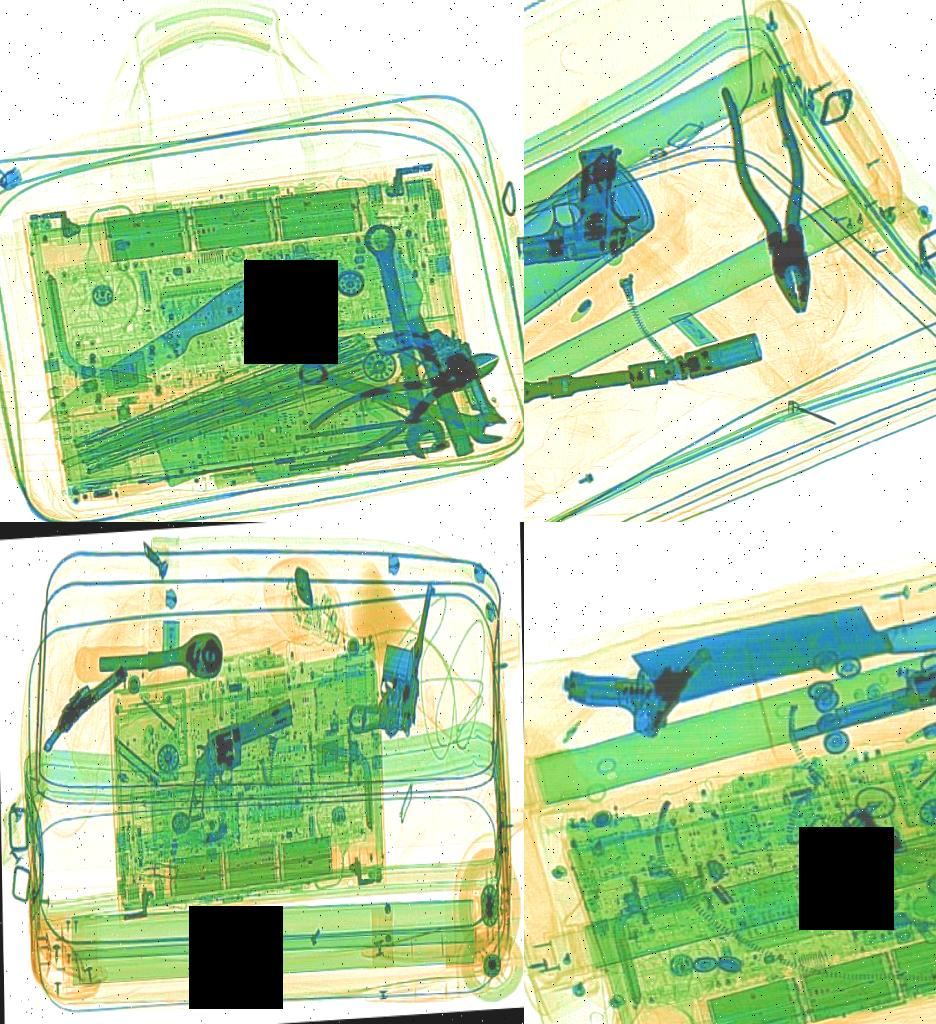Gun: (554, 584, 726, 758), (152, 689, 328, 826), (772, 605, 936, 745), (370, 305, 507, 448), (524, 139, 650, 271), (344, 573, 439, 741), (24, 657, 143, 754)
Knife: (26, 256, 306, 431), (627, 561, 936, 717), (358, 194, 489, 461)
Pliers: (297, 326, 518, 472), (720, 70, 836, 318)
Wrench: (351, 217, 455, 461), (294, 344, 516, 456)
